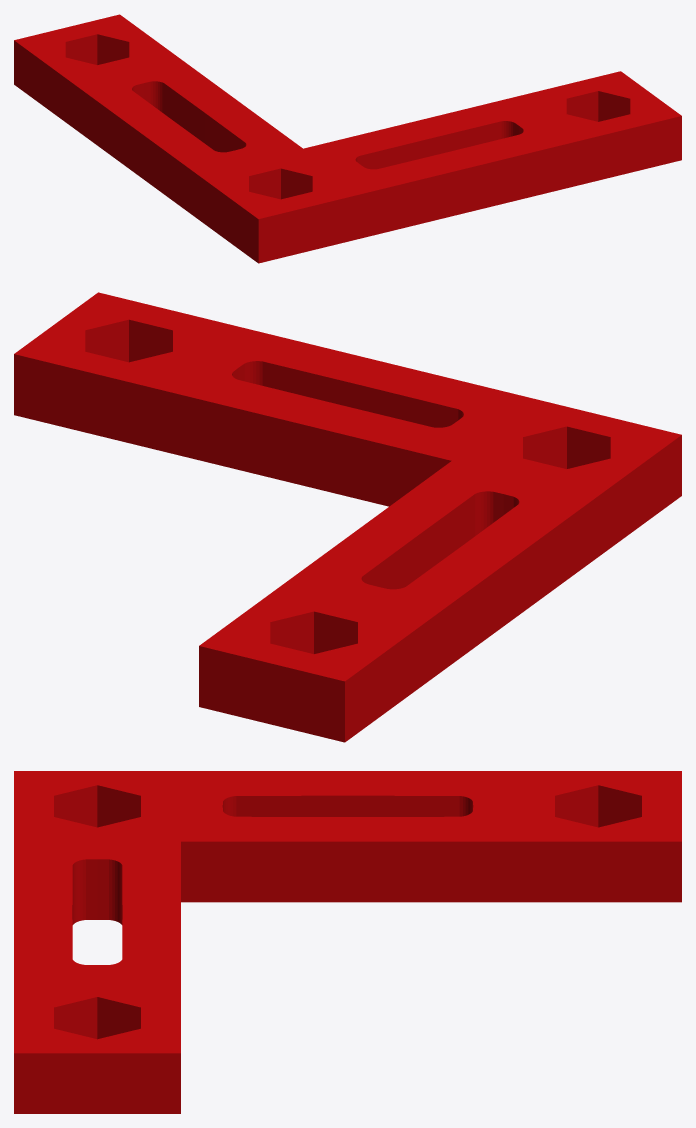
The model's file is L_Piece_3_hole_2_track_hole_One_Sided_Plate.glb.
3 views of the same model, one above another, from view 1: azimuth 30°, elevation 25°; view 2: azimuth 150°, elevation 25°; view 3: azimuth 270°, elevation 25° (orthographic). The views are drawn at different scales.
Parts seen in each view (by area): view 1: Cube; view 2: Cube; view 3: Cube.
Part boxes in pixels (box(x1,y1,x2,y2)): Cube: box(14, 14, 681, 263); Cube: box(14, 292, 681, 742); Cube: box(14, 771, 681, 1113).
Size of the model in its own units: 0.04 by 0.004 by 0.04.
